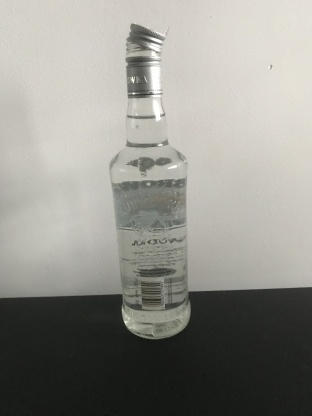nakretka: (124, 21, 166, 98)
